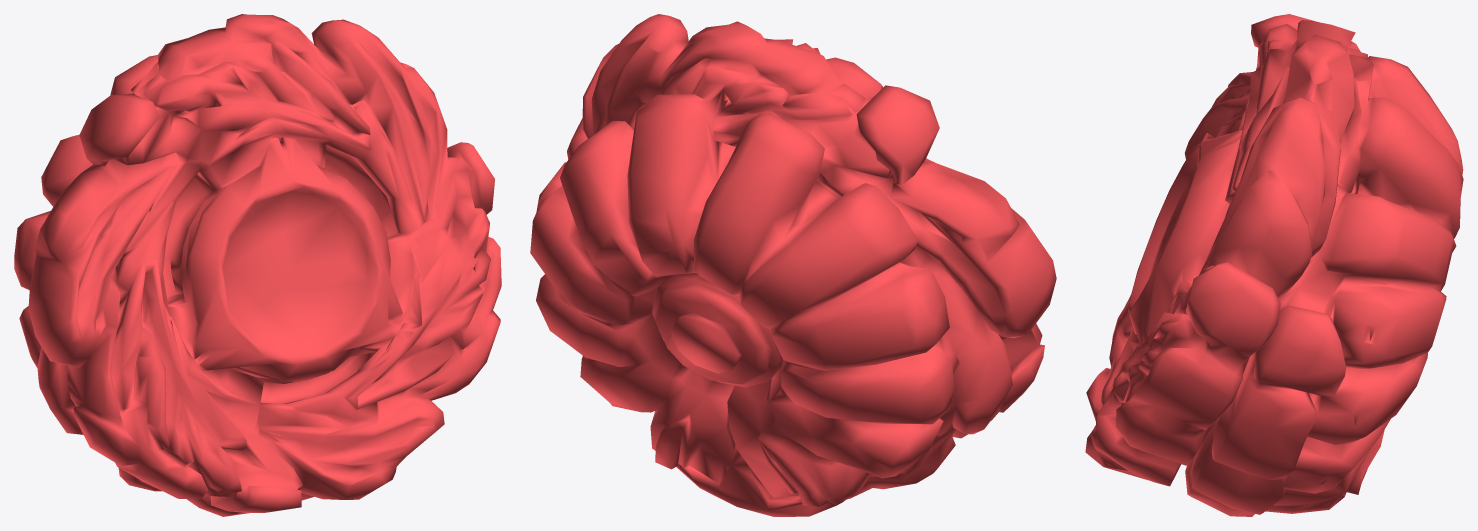
File: Beyblade.glb
3 renders of one model, left to right at view 1: azimuth 30°, elevation 25°; view 2: azimuth 150°, elevation 25°; view 3: azimuth 270°, elevation 25°, orthographic. The views are drawn at different scales.
Visible parts, largest first — view 1: 戰鬥陀螺; view 2: 戰鬥陀螺; view 3: 戰鬥陀螺.
Part boxes in pixels (x1,y1,x2,y2): 戰鬥陀螺: (14,14,501,516); 戰鬥陀螺: (530,14,1056,516); 戰鬥陀螺: (1085,14,1463,516).
Size of the model in its own units: 0.0489 by 0.0489 by 0.0358.
